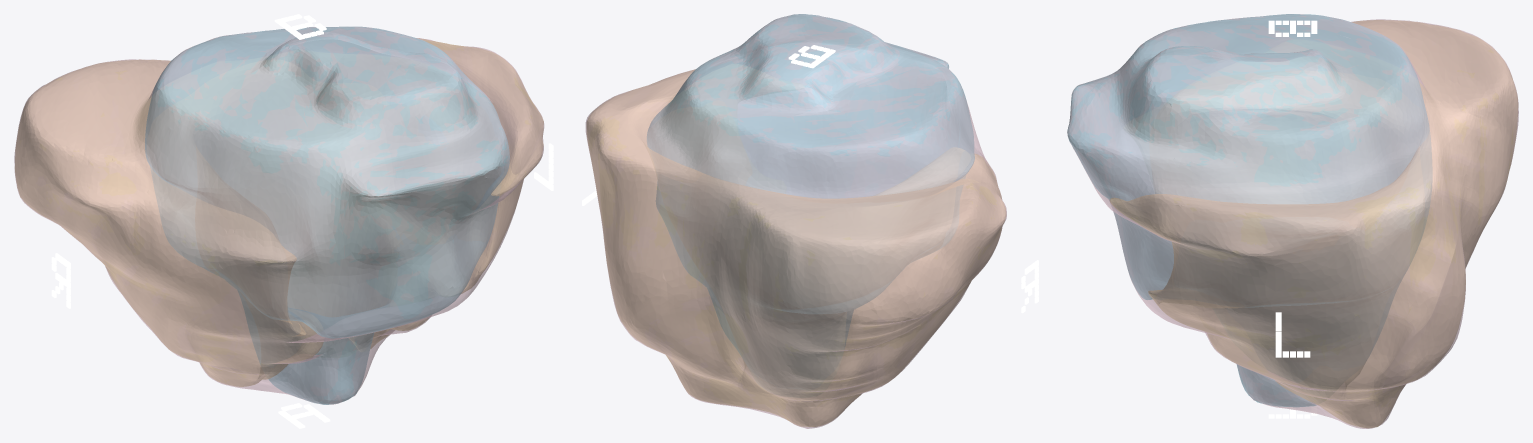
3 renders of one model, left to right at view 1: azimuth 30°, elevation 25°; view 2: azimuth 150°, elevation 25°; view 3: azimuth 270°, elevation 25°, orthographic. The views are drawn at different scales.
Visible parts, largest first — view 1: prostate_gland, transition_zone, peripheral_zone, pv_ar_marker_B, pv_ar_marker_R, pv_ar_marker_A; view 2: prostate_gland, peripheral_zone, transition_zone, pv_ar_marker_B, pv_ar_marker_R; view 3: prostate_gland, peripheral_zone, transition_zone, pv_ar_marker_B, pv_ar_marker_L.
Part boxes in pixels (x1=…): prostate_gland: x1=14, y1=27, x2=544, y2=404; transition_zone: x1=145, y1=26, x2=509, y2=404; peripheral_zone: x1=15, y1=38, x2=543, y2=386; pv_ar_marker_B: x1=274, y1=14, x2=326, y2=39; pv_ar_marker_R: x1=51, y1=253, x2=70, y2=308; pv_ar_marker_A: x1=278, y1=403, x2=330, y2=428; prostate_gland: x1=585, y1=14, x2=1006, y2=428; peripheral_zone: x1=587, y1=70, x2=1005, y2=426; transition_zone: x1=647, y1=14, x2=974, y2=355; pv_ar_marker_B: x1=788, y1=45, x2=835, y2=68; pv_ar_marker_R: x1=1021, y1=260, x2=1038, y2=313; prostate_gland: x1=1067, y1=14, x2=1518, y2=428; peripheral_zone: x1=1110, y1=20, x2=1517, y2=427; transition_zone: x1=1067, y1=14, x2=1432, y2=406; pv_ar_marker_B: x1=1268, y1=20, x2=1317, y2=36; pv_ar_marker_L: x1=1275, y1=312, x2=1310, y2=357.
Size of the model in its own units: 0.066 by 0.0509 by 0.0543.
